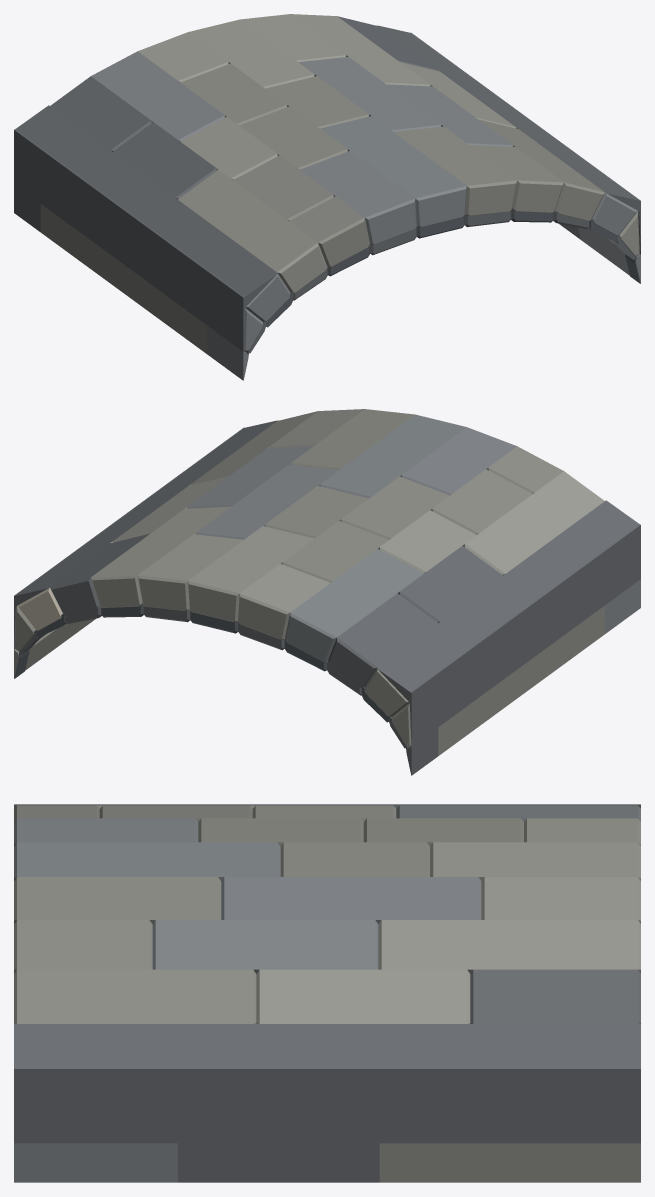
File: SM_LPD_Struct_CeilVault_01.fbx
3 renders of one model, top to bottom at view 1: azimuth 30°, elevation 25°; view 2: azimuth 150°, elevation 25°; view 3: azimuth 270°, elevation 25°, orthographic. The views are drawn at different scales.
Visible parts, largest first — view 1: SM_LPD_Struct_CeilVault_01; view 2: SM_LPD_Struct_CeilVault_01; view 3: SM_LPD_Struct_CeilVault_01.
Part boxes in pixels (x1,y1,x2,y2): SM_LPD_Struct_CeilVault_01: (14, 14, 640, 380); SM_LPD_Struct_CeilVault_01: (14, 409, 640, 775); SM_LPD_Struct_CeilVault_01: (14, 804, 640, 1182).
Size of the model in its own units: 4 by 1.34 by 4.
